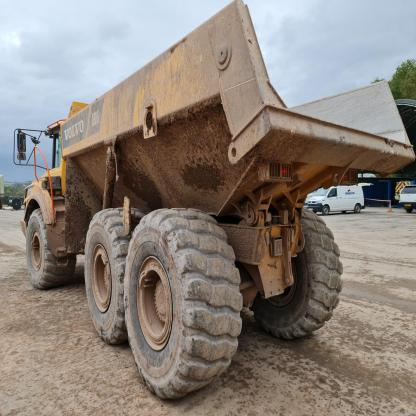dump_truck: (13, 5, 412, 398)
